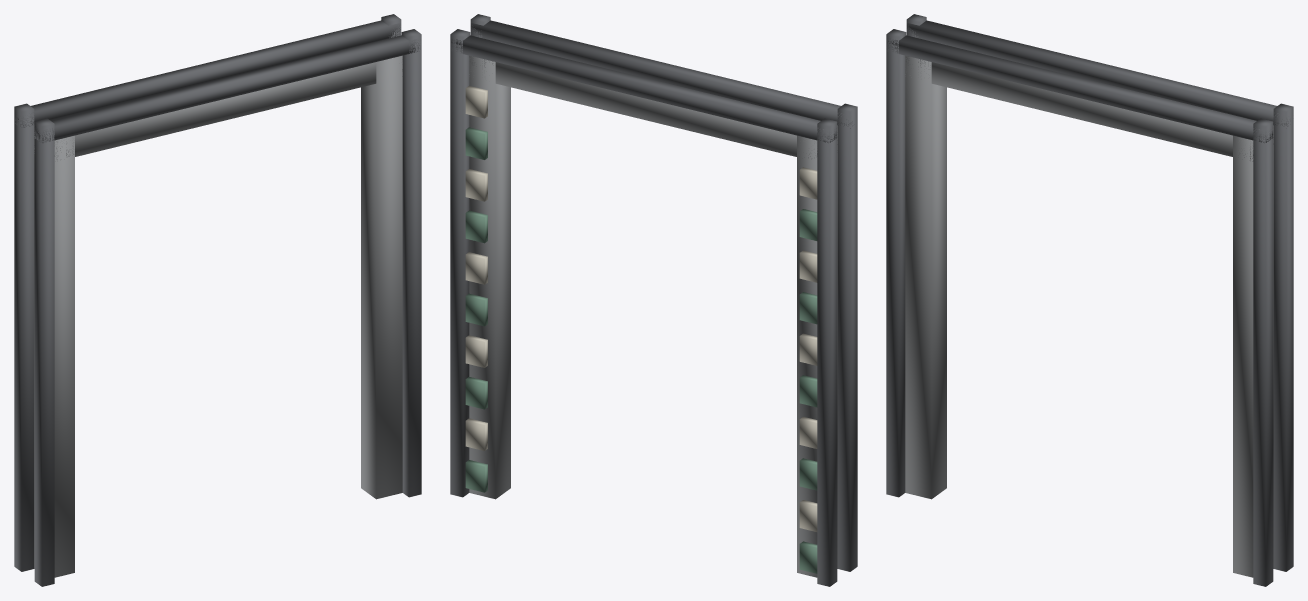
The model's file is doorway_tile_return_w182_h240_d16.glb.
The picture shows the model from 3 angles, left to right: view 1: azimuth 30°, elevation 25°; view 2: azimuth 150°, elevation 25°; view 3: azimuth 330°, elevation 25°; orthographic projection.
Visible parts, largest first — view 1: world; view 2: world; view 3: world.
Part boxes in pixels (<box>): world: <box>14,14,421,586</box>; world: <box>450,14,857,586</box>; world: <box>886,14,1293,586</box>.
Size of the model in its own units: 2.29 by 2.66 by 0.2906.
